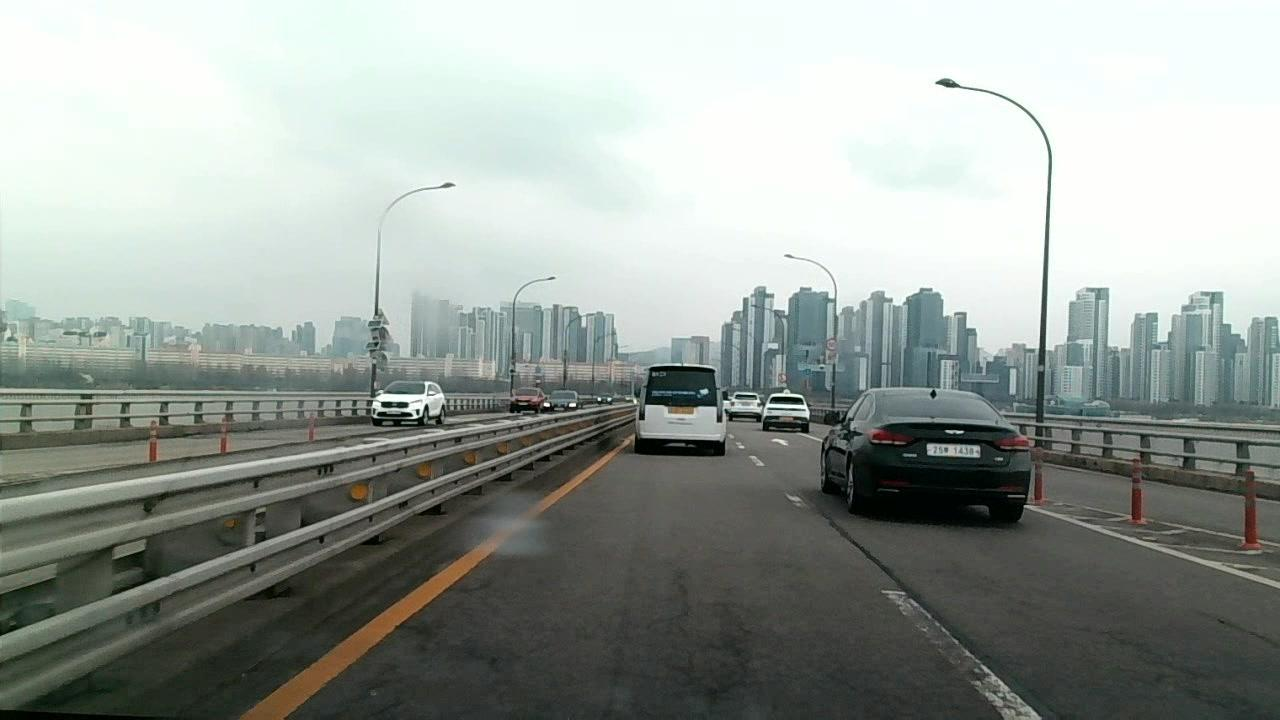erosion: (361, 570, 853, 720)
vcrack: (920, 608, 1048, 713), (1101, 630, 1249, 720), (825, 510, 911, 605), (1207, 613, 1277, 643)
